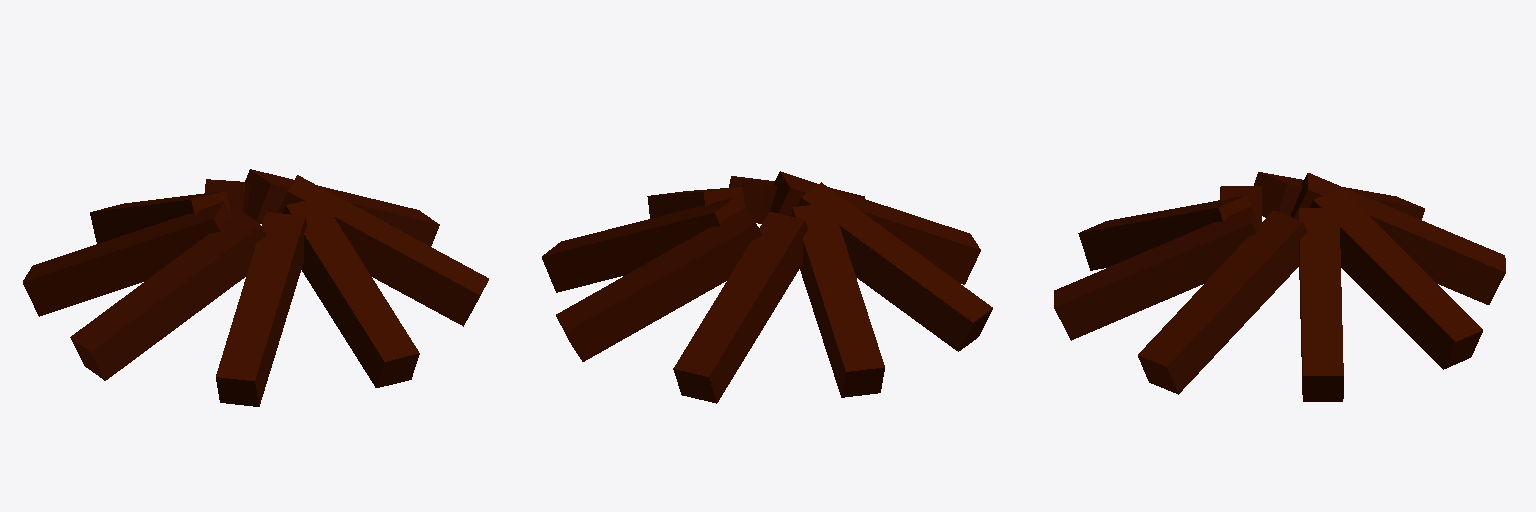
Rendered from woods.obj.
The picture shows the model from 3 angles: view 1: azimuth 30°, elevation 25°; view 2: azimuth 150°, elevation 25°; view 3: azimuth 270°, elevation 25°; orthographic projection.
Visible parts, largest first — view 1: fire_Cube.001; view 2: fire_Cube.001; view 3: fire_Cube.001.
Boxes of the visible parts, <box> form: fire_Cube.001: <box>23,169,488,406</box>; fire_Cube.001: <box>542,171,992,403</box>; fire_Cube.001: <box>1054,172,1505,401</box>.
Size of the model in its own units: 1.82 by 0.5321 by 1.82.